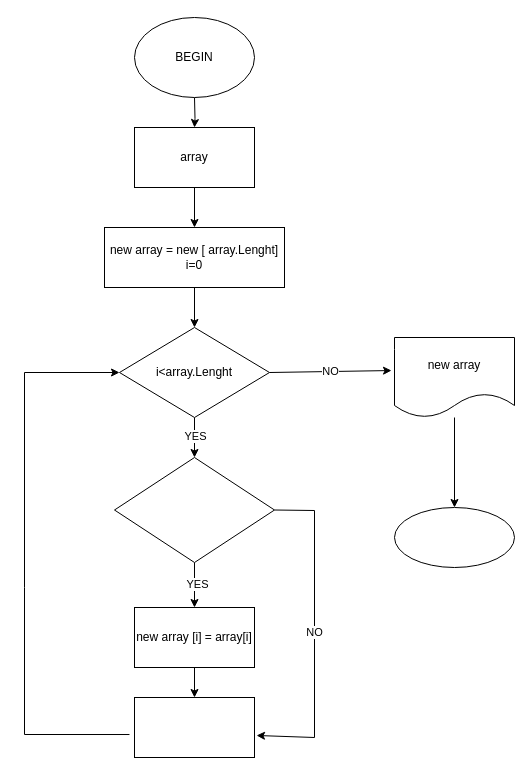
Image size: 532x775. Some labels were removed from this diagram. Here are the shapes that lost their labels. From the top down, the centre of each, then its label:
At [194,509]: "array[i].Lenght <= 3".
At [454,537]: "END".
At [194,727]: "i+=1".
